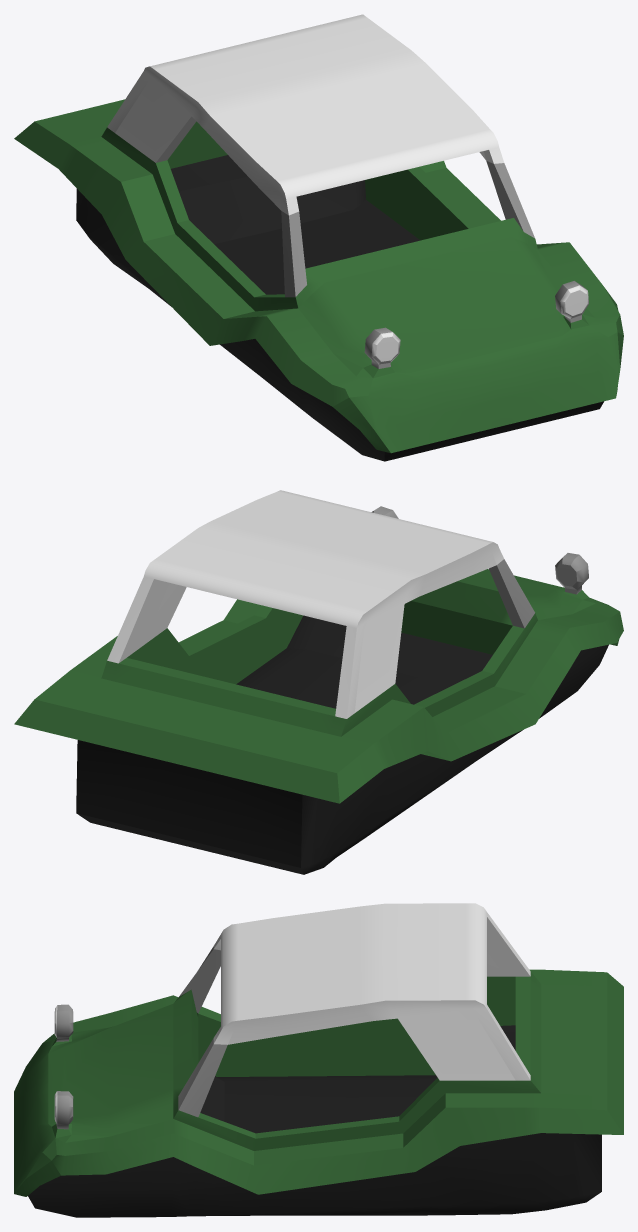
Rendered from madbomberbody.fbx.
The picture shows the model from 3 angles, top to bottom: view 1: azimuth 30°, elevation 25°; view 2: azimuth 150°, elevation 25°; view 3: azimuth 270°, elevation 25°; orthographic projection. The views are drawn at different scales.
Parts seen in each view (by area): view 1: pCube1; view 2: pCube1; view 3: pCube1.
Boxes of the visible parts, box(x1,y1,x2,y2) form: pCube1: box(14, 14, 623, 461); pCube1: box(14, 490, 623, 874); pCube1: box(14, 903, 623, 1217).
Bounding box in the file's own units: 8.4 × 5.8 × 14.58.
